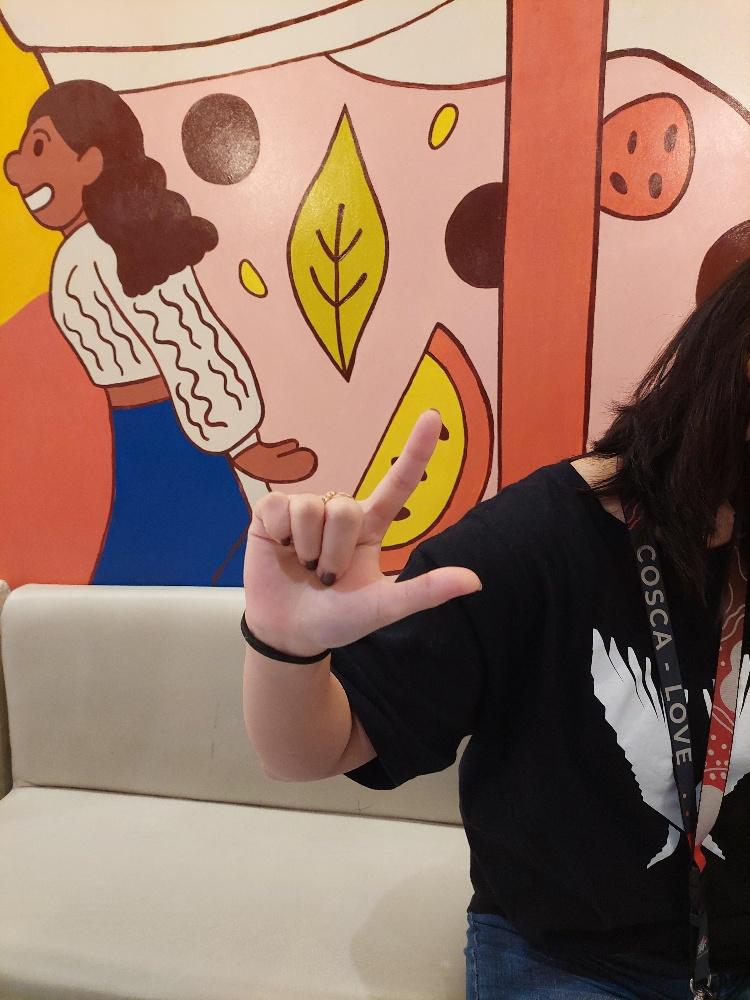l: (242, 406, 483, 649)
